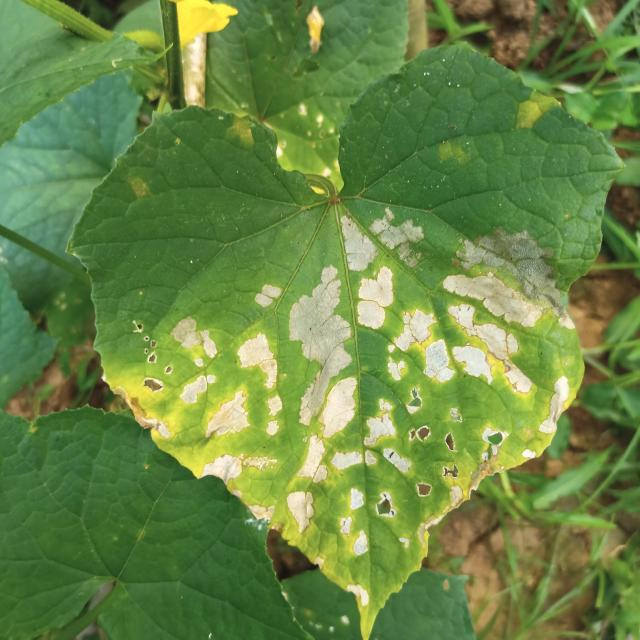disease_cucumber: (117, 202, 581, 619), (500, 86, 567, 139)
